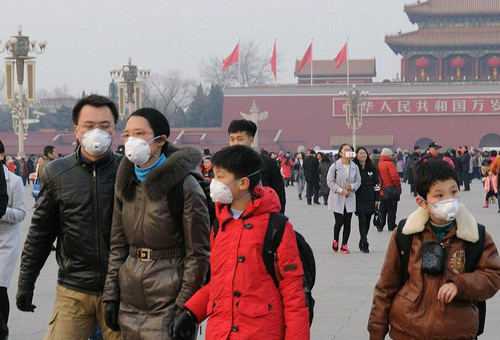mask: (73, 117, 118, 161), (121, 130, 162, 164), (432, 193, 473, 224), (207, 174, 237, 206)
